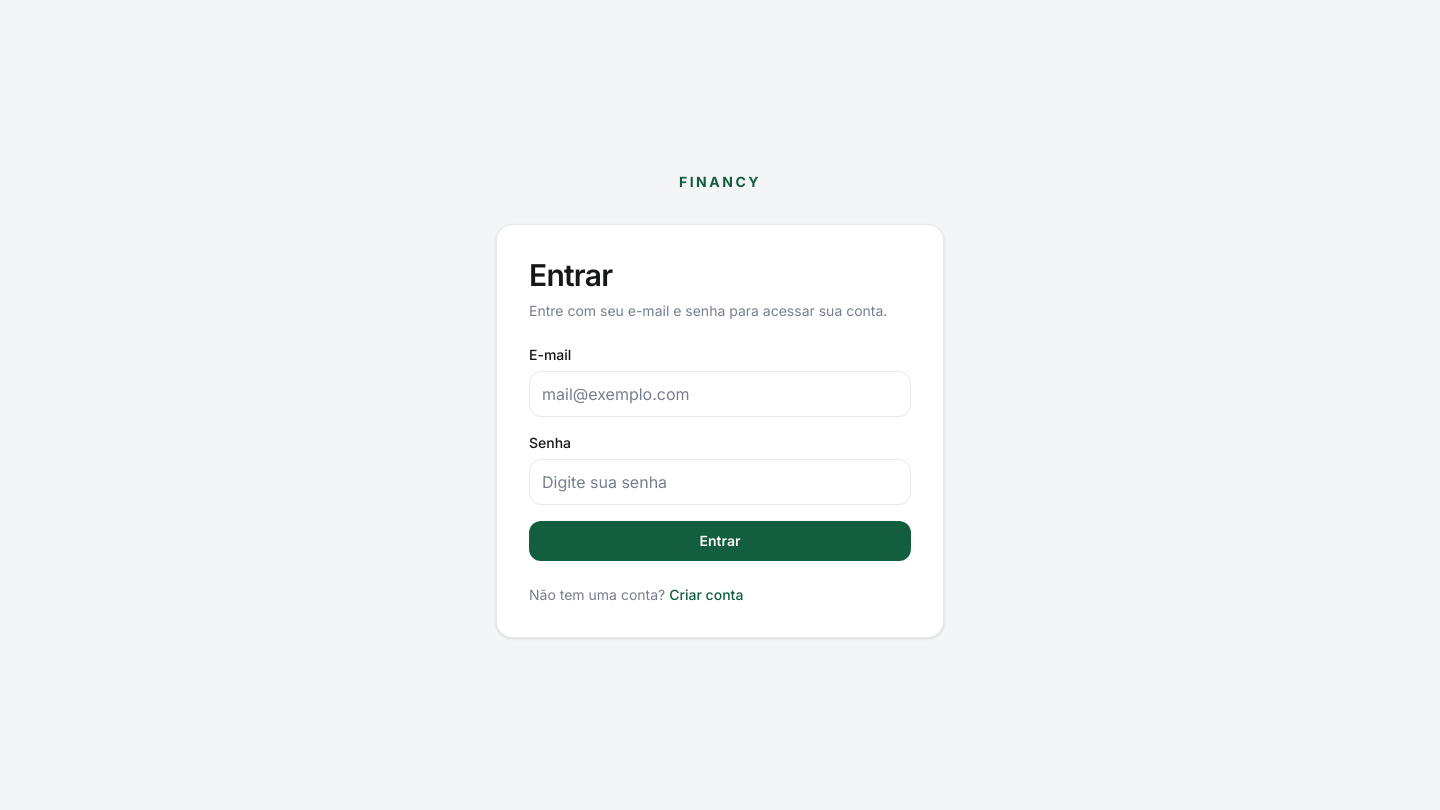
it: visitor authentication › shows login at the root and reaches sign-up
This screenshot has width=1440, height=810.
Check: the heading "Entrar" is shown, box [529,257,612,293]
Click the link "Criar conta" at (706, 594), box [669,586,743,603]
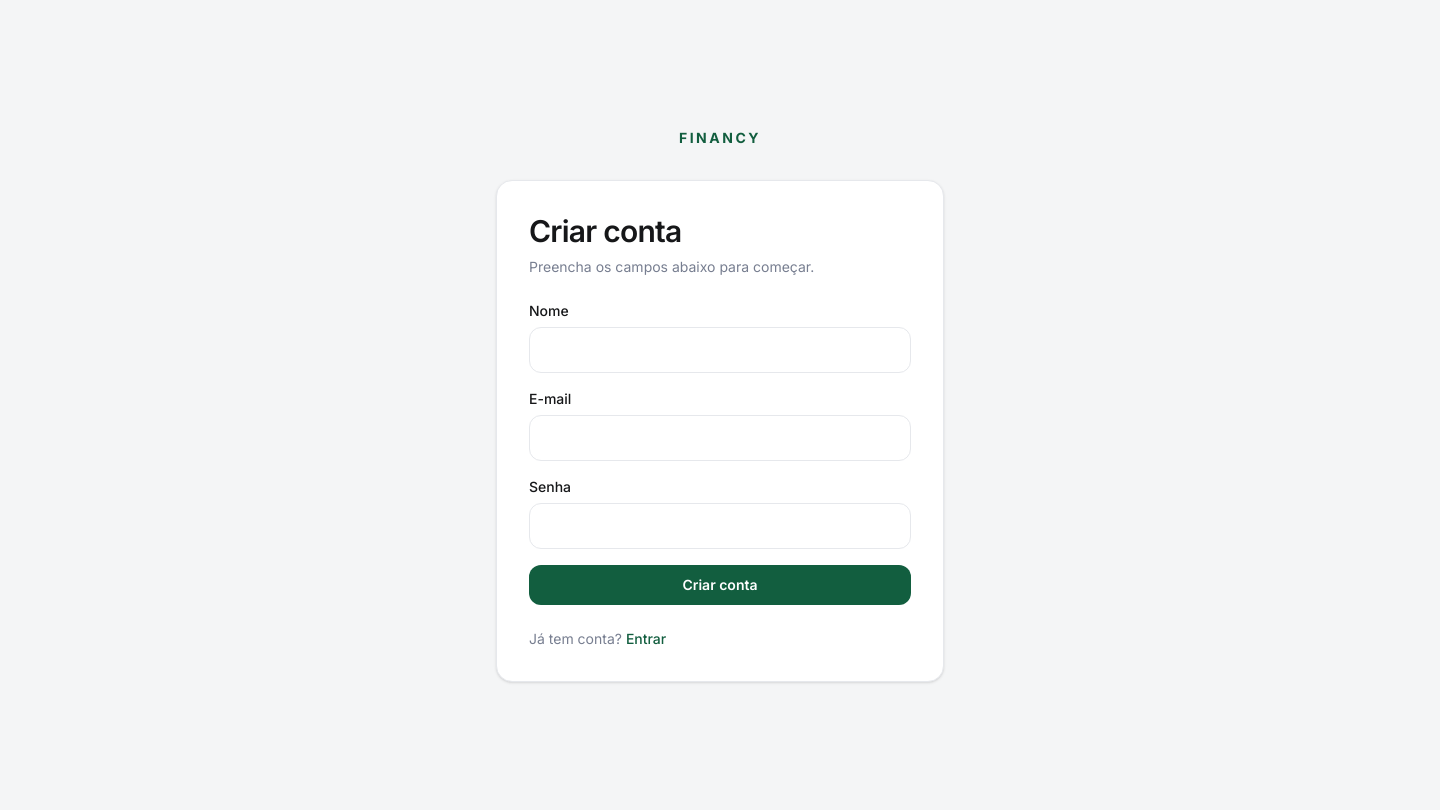
Check: the heading "Criar conta" is shown, box [529,213,682,249]
